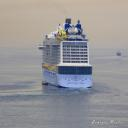cruises: (38, 17, 95, 91)
